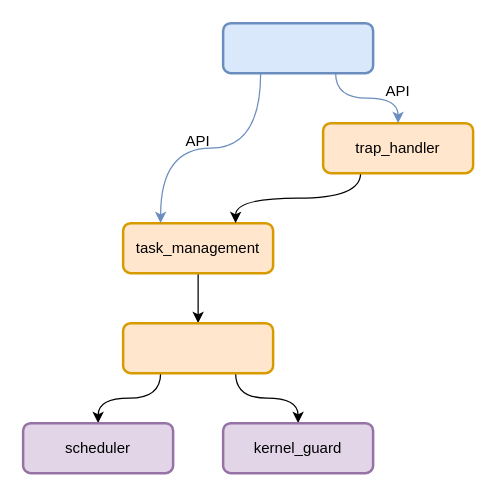
Some shapes in this 495 by 495 pixel diagram are drawn without their labels. The shapes that lost their labels are listed below. From the top down, each one's box as (x1, y1, x2, y2) in pixels, then its label:
(221, 21, 374, 74): 应用程序
(121, 321, 274, 374): task_queues
